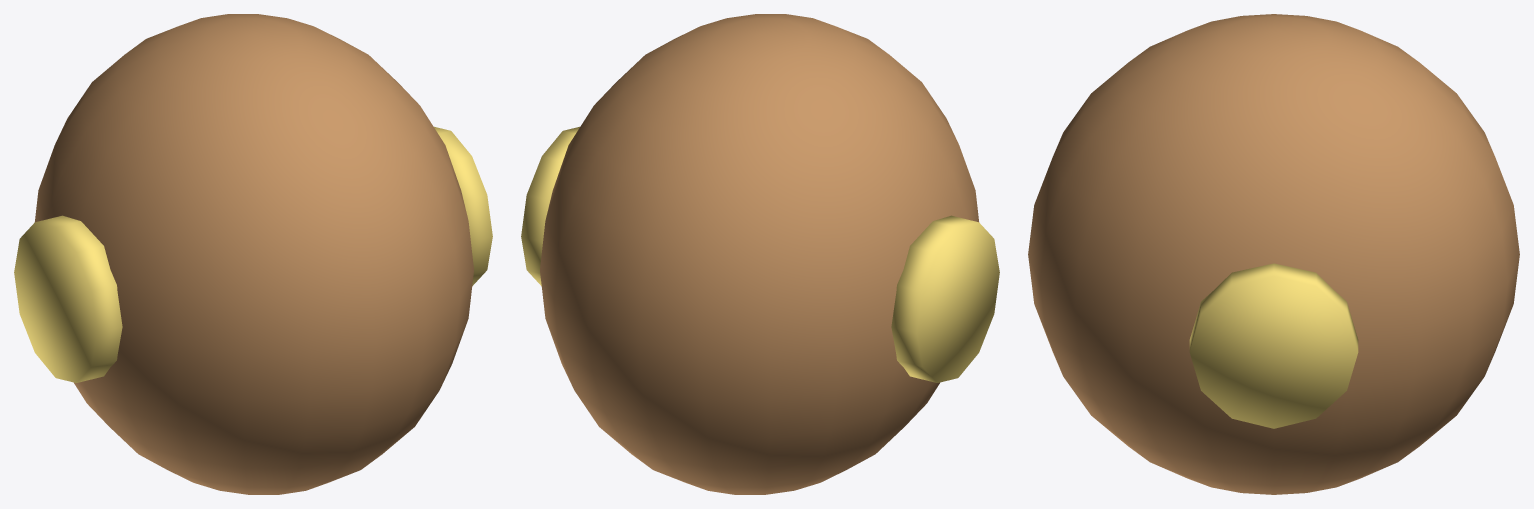
File: hat_bo_de_don.glb
3 views of the same model, side by side, from view 1: azimuth 30°, elevation 25°; view 2: azimuth 150°, elevation 25°; view 3: azimuth 270°, elevation 25° (orthographic).
Parts seen in each view (by area): view 1: hat_bo_de_don; view 2: hat_bo_de_don; view 3: hat_bo_de_don.
Boxes of the visible parts, left/top/right/bottom form: hat_bo_de_don: left=14, top=14, right=492, bottom=494; hat_bo_de_don: left=521, top=14, right=999, bottom=494; hat_bo_de_don: left=1028, top=14, right=1519, bottom=494.
Bounding box in the file's own units: 0.198 × 0.21 × 0.21.
